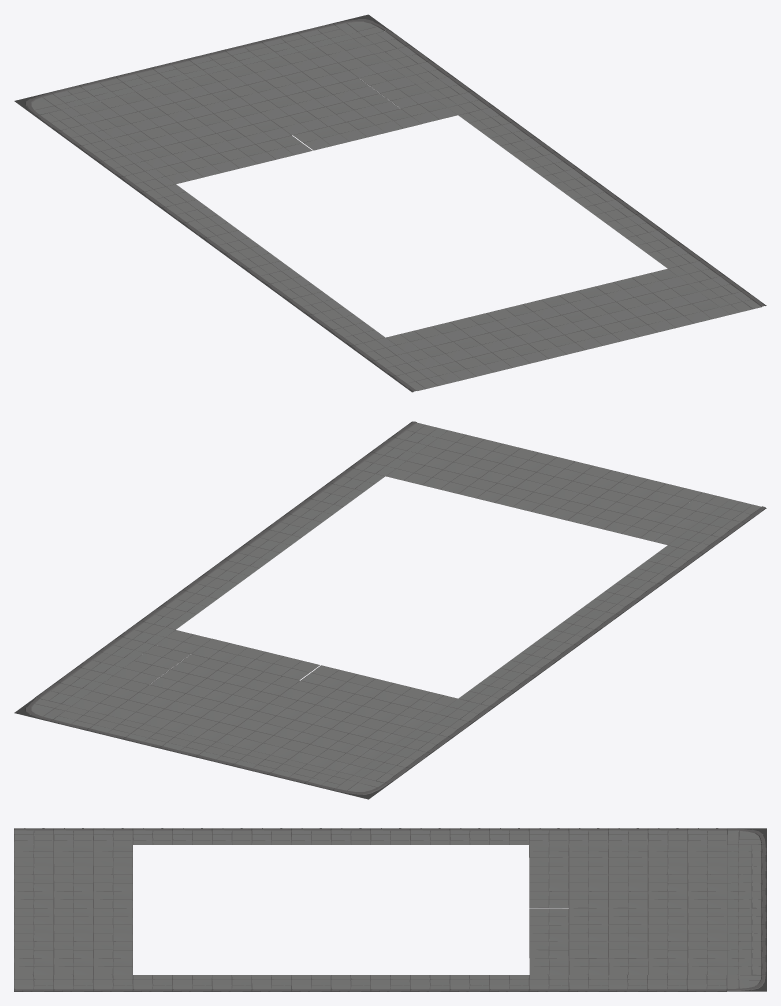
The model's file is SideWalk.glb.
The picture shows the model from 3 angles, top to bottom: view 1: azimuth 30°, elevation 25°; view 2: azimuth 150°, elevation 25°; view 3: azimuth 270°, elevation 25°; orthographic projection. The views are drawn at different scales.
Visible parts, largest first — view 1: SM_Env_Sidewalk_Corner_01_SF__7_, SM_Env_Sidewalk_01_SF__125___10_, SM_Env_Sidewalk_Straight_01_SF__49___10_, SM_Env_Sidewalk_Straight_01_SF__49___15_, SM_Env_Sidewalk_Straight_01_SF__51___1_, SM_Env_Sidewalk_Straight_01_SF__54___23_, SM_Env_Sidewalk_Straight_01_SF__54___28_, SM_Env_Sidewalk_Straight_01_SF__54___31_, SM_Env_Sidewalk_01_SF__125___11_, SM_Env_Sidewalk_01_SF__125___13_, SM_Env_Sidewalk_01_SF__125___14_, SM_Env_Sidewalk_01_SF__125___4_ (+89 smaller); view 2: SM_Env_Sidewalk_Corner_01_SF__7_, SM_Env_Sidewalk_01_SF__136___4_, SM_Env_Sidewalk_01_SF__129___5_, SM_Env_Sidewalk_Straight_01_SF__49___4_, SM_Env_Sidewalk_Straight_01_SF__54___25_, SM_Env_Sidewalk_Straight_01_SF__54___35_, SM_Env_Sidewalk_01_SF__125___10_, SM_Env_Sidewalk_01_SF__125___3_, SM_Env_Sidewalk_01_SF__135___111_, SM_Env_Sidewalk_01_SF__135___15_, SM_Env_Sidewalk_01_SF__135___3_, SM_Env_Sidewalk_01_SF__135___9_ (+89 smaller); view 3: SM_Env_Sidewalk_01_SF__125___2_, SM_Env_Sidewalk_01_SF__125___9_, SM_Env_Sidewalk_01_SF__135___13_, SM_Env_Sidewalk_01_SF__135___3_, SM_Env_Sidewalk_01_SF__125___105_, SM_Env_Sidewalk_01_SF__125___11_, SM_Env_Sidewalk_01_SF__125___3_, SM_Env_Sidewalk_01_SF__125___4_, SM_Env_Sidewalk_01_SF__129___4_, SM_Env_Sidewalk_01_SF__135___112_, SM_Env_Sidewalk_01_SF__135___11_, SM_Env_Sidewalk_01_SF__135___15_ (+98 smaller).
Boxes of the visible parts, bbox=[...] form: SM_Env_Sidewalk_Corner_01_SF__7_: bbox=[332, 14, 389, 38]; SM_Env_Sidewalk_01_SF__125___10_: bbox=[653, 284, 709, 308]; SM_Env_Sidewalk_Straight_01_SF__49___10_: bbox=[203, 230, 259, 254]; SM_Env_Sidewalk_Straight_01_SF__49___15_: bbox=[307, 307, 364, 330]; SM_Env_Sidewalk_Straight_01_SF__51___1_: bbox=[151, 59, 207, 82]; SM_Env_Sidewalk_Straight_01_SF__54___23_: bbox=[437, 91, 494, 115]; SM_Env_Sidewalk_Straight_01_SF__54___28_: bbox=[521, 152, 577, 176]; SM_Env_Sidewalk_Straight_01_SF__54___31_: bbox=[584, 198, 640, 222]; SM_Env_Sidewalk_01_SF__125___11_: bbox=[595, 277, 651, 301]; SM_Env_Sidewalk_01_SF__125___13_: bbox=[359, 69, 415, 93]; SM_Env_Sidewalk_01_SF__125___14_: bbox=[380, 84, 436, 108]; SM_Env_Sidewalk_01_SF__125___4_: bbox=[323, 78, 379, 102]; SM_Env_Sidewalk_Corner_01_SF__7_: bbox=[14, 697, 70, 721]; SM_Env_Sidewalk_01_SF__136___4_: bbox=[237, 711, 294, 735]; SM_Env_Sidewalk_01_SF__129___5_: bbox=[207, 663, 263, 686]; SM_Env_Sidewalk_Straight_01_SF__49___4_: bbox=[395, 729, 452, 753]; SM_Env_Sidewalk_Straight_01_SF__54___25_: bbox=[140, 605, 196, 629]; SM_Env_Sidewalk_Straight_01_SF__54___35_: bbox=[349, 452, 405, 476]; SM_Env_Sidewalk_01_SF__125___10_: bbox=[407, 445, 463, 469]; SM_Env_Sidewalk_01_SF__125___3_: bbox=[129, 684, 185, 708]; SM_Env_Sidewalk_01_SF__135___111_: bbox=[536, 457, 593, 480]; SM_Env_Sidewalk_01_SF__135___15_: bbox=[567, 505, 623, 529]; SM_Env_Sidewalk_01_SF__135___3_: bbox=[253, 735, 309, 759]; SM_Env_Sidewalk_01_SF__135___9_: bbox=[316, 689, 372, 713]; SM_Env_Sidewalk_01_SF__125___2_: bbox=[687, 941, 727, 958]; SM_Env_Sidewalk_01_SF__125___9_: bbox=[53, 941, 93, 958]; SM_Env_Sidewalk_01_SF__135___13_: bbox=[53, 874, 93, 891]; SM_Env_Sidewalk_01_SF__135___3_: bbox=[687, 874, 727, 891]; SM_Env_Sidewalk_01_SF__125___105_: bbox=[14, 941, 53, 958]; SM_Env_Sidewalk_01_SF__125___11_: bbox=[93, 941, 132, 958]; SM_Env_Sidewalk_01_SF__125___3_: bbox=[648, 941, 687, 958]; SM_Env_Sidewalk_01_SF__125___4_: bbox=[608, 941, 647, 958]; SM_Env_Sidewalk_01_SF__129___4_: bbox=[608, 924, 647, 941]; SM_Env_Sidewalk_01_SF__135___112_: bbox=[14, 874, 53, 891]; SM_Env_Sidewalk_01_SF__135___11_: bbox=[529, 874, 568, 891]; SM_Env_Sidewalk_01_SF__135___15_: bbox=[93, 874, 132, 891].
Bounding box in the file's own units: 48.87 × 0.1161 × 95.01.
1 material, 1 textured.
